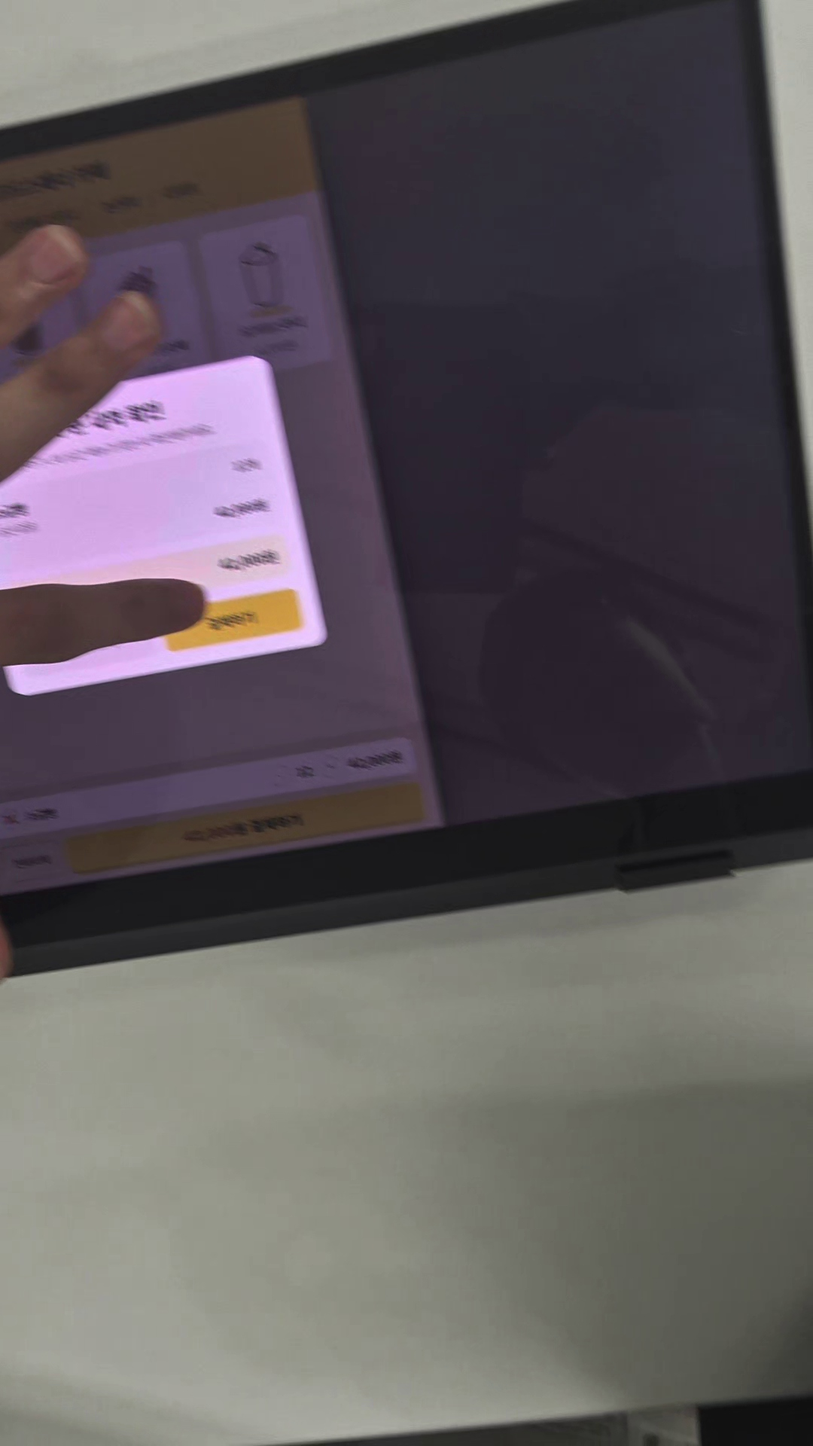action_button: (162, 585, 313, 659)
popup_modal: (3, 352, 329, 699)
